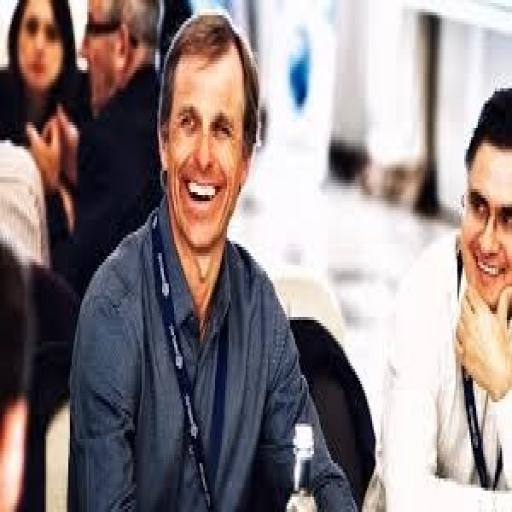laughing: (65, 9, 357, 506)
